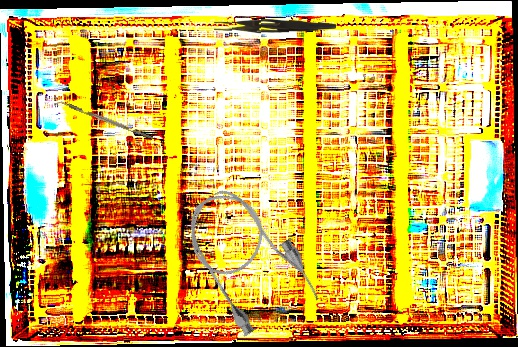Cannula: (170, 172, 327, 345)
Chopper: (53, 97, 154, 145)
Dressing Forceps: (213, 16, 337, 36)
